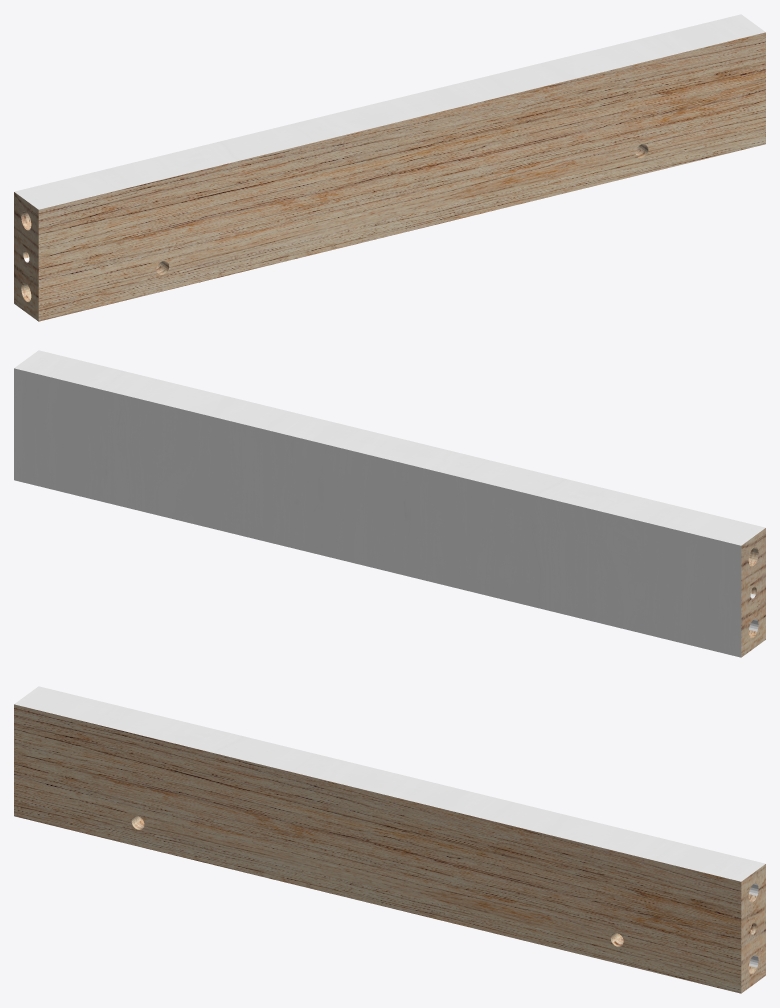
File: Ikea_stefan_long.obj
3 views of the same model, one above another, from view 1: azimuth 30°, elevation 25°; view 2: azimuth 150°, elevation 25°; view 3: azimuth 330°, elevation 25° (orthographic).
Visible parts, largest first — view 1: Ikea_stefan_long; view 2: Ikea_stefan_long; view 3: Ikea_stefan_long.
Part boxes in pixels (x1,y1,x2,y2): Ikea_stefan_long: (14,14,765,321); Ikea_stefan_long: (14,350,765,657); Ikea_stefan_long: (14,686,765,993).
Bounding box in the file's own units: 340 × 50 × 20.
Materials: 1 (1 with a texture image).
